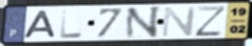7: (97, 7, 126, 39)
A: (21, 9, 59, 39)
L: (59, 8, 84, 40)
N: (124, 5, 163, 40), (160, 5, 199, 38)
Z: (193, 5, 228, 38)
